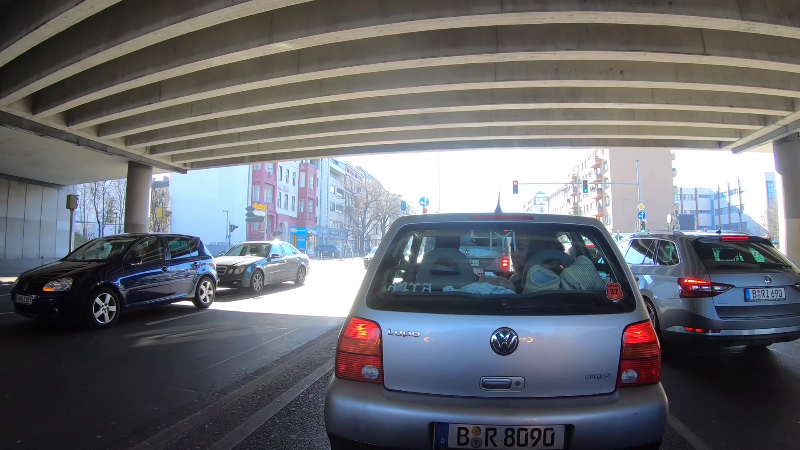Plate: (433, 420, 569, 450), (742, 286, 788, 301), (14, 293, 32, 303)
